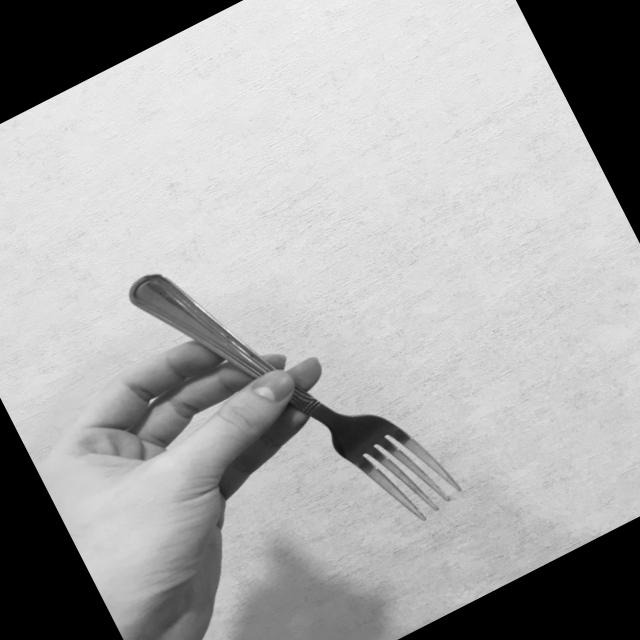fork: (120, 186, 470, 593)
